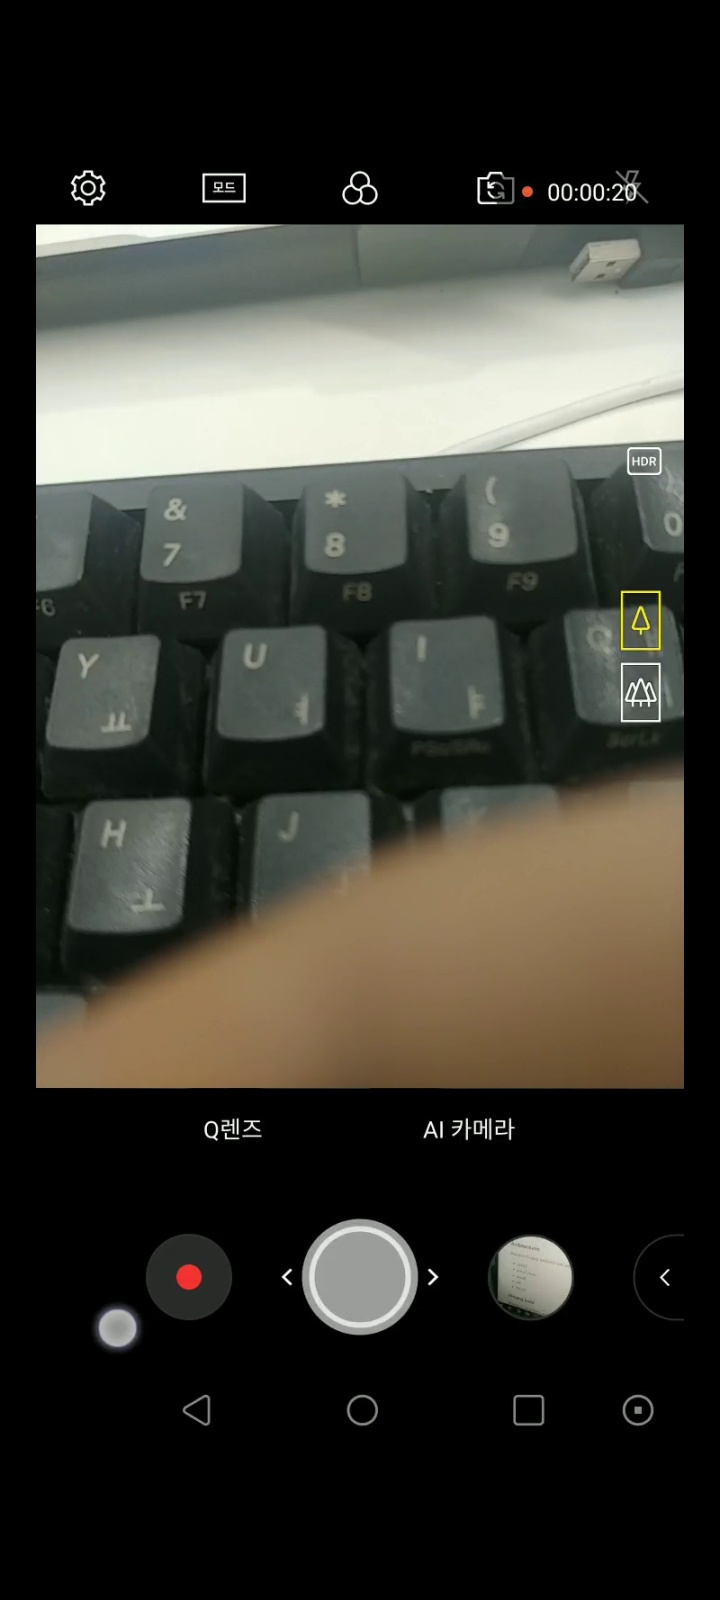Cursor: (96, 1307, 141, 1352)
